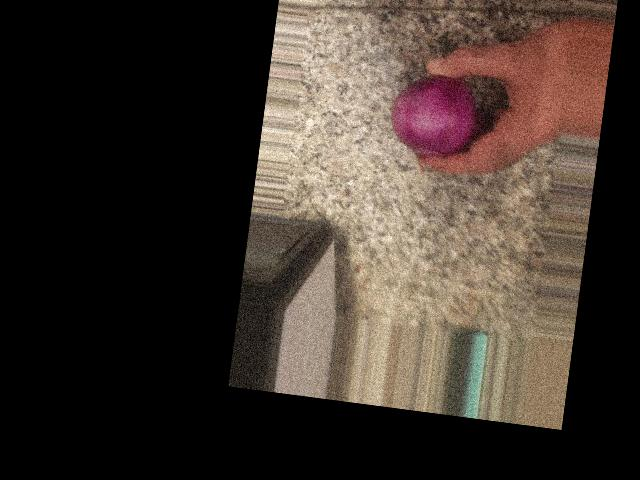onion: (291, 130, 389, 223)
